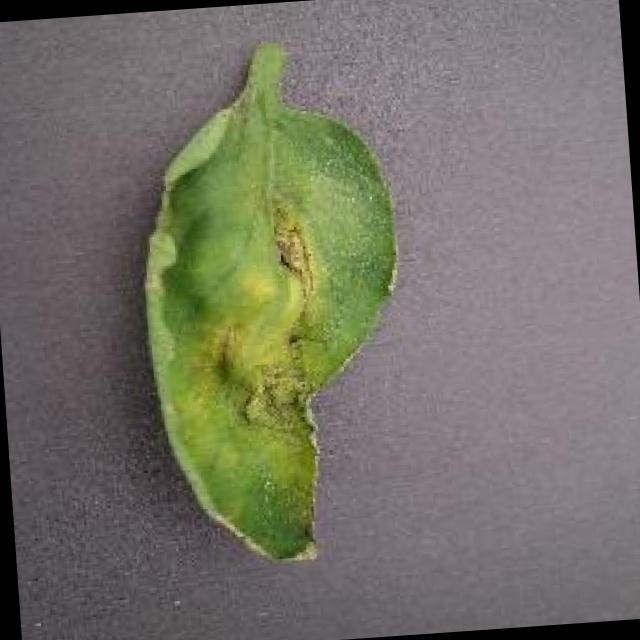Tomato_Late_Blight: (138, 131, 346, 582)
